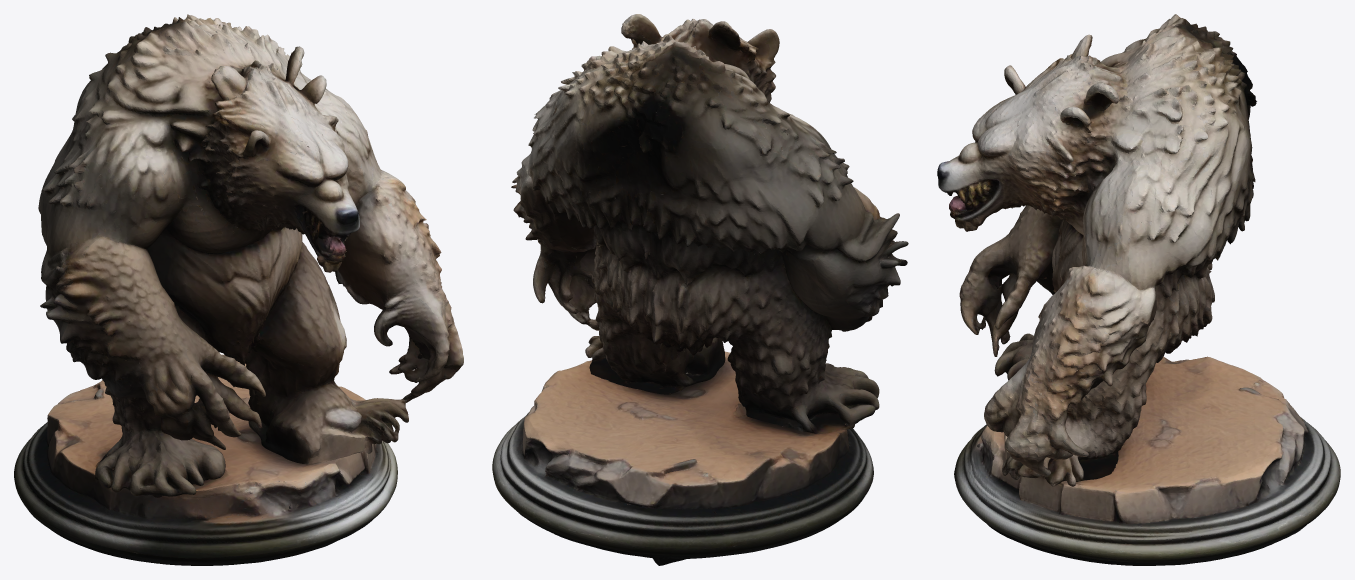
The picture shows the model from 3 angles, left to right: view 1: azimuth 30°, elevation 25°; view 2: azimuth 150°, elevation 25°; view 3: azimuth 270°, elevation 25°; orthographic projection.
Parts seen in each view (by area): view 1: 1, 0; view 2: 1, 0; view 3: 1, 0.
Part boxes in pixels (bbox=[...]): 1: bbox=[38, 14, 463, 497]; 0: bbox=[14, 354, 397, 565]; 1: bbox=[511, 14, 908, 434]; 0: bbox=[492, 351, 873, 565]; 1: bbox=[937, 14, 1256, 486]; 0: bbox=[954, 356, 1340, 565].
Size of the model in its own units: 0.8554 by 0.9881 by 0.7632.
2 materials, 2 textured.
